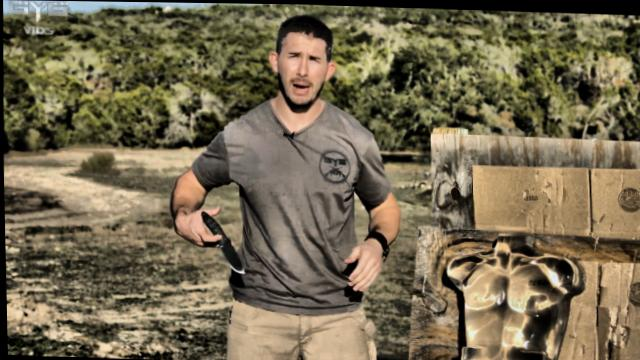knife: (192, 201, 248, 278)
